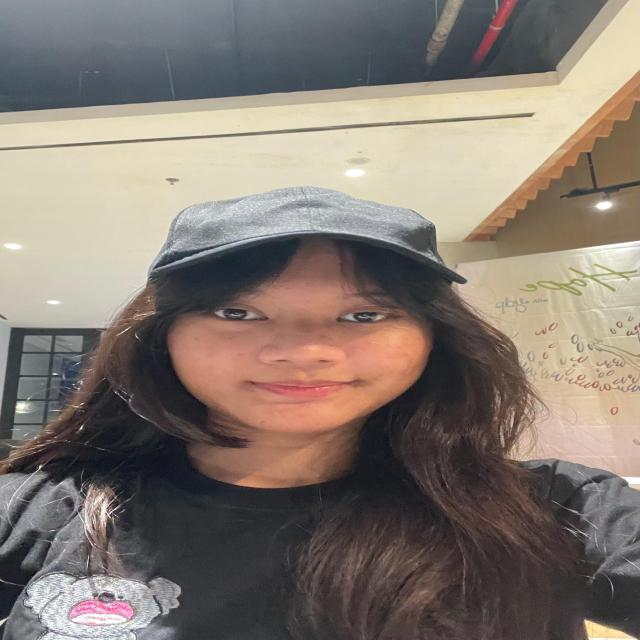3_gorra: (143, 186, 474, 291)
